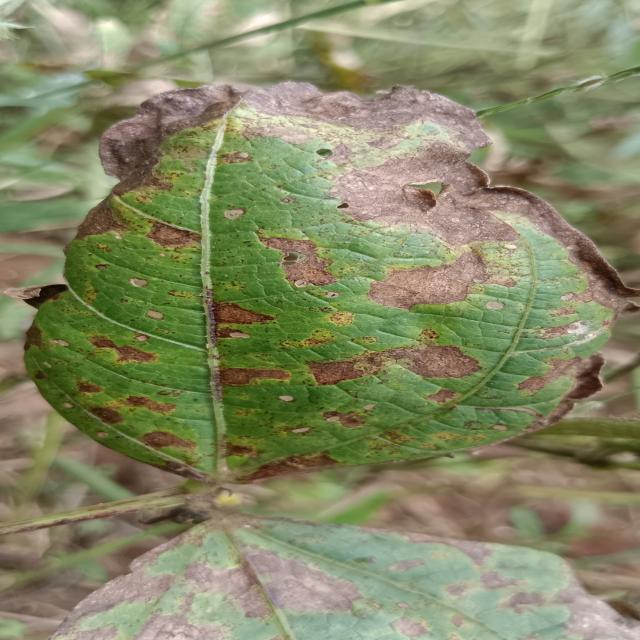Black gram_leaf spot: (22, 72, 638, 491), (21, 511, 640, 640)
